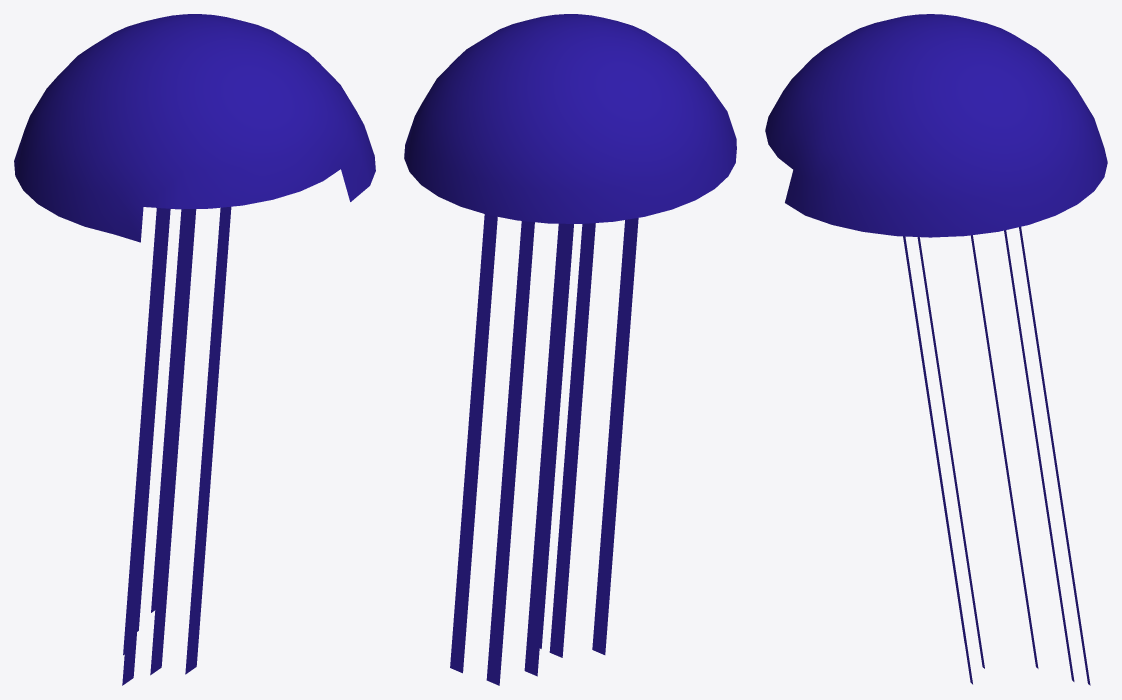
File: medusa.obj
3 renders of one model, left to right at view 1: azimuth 30°, elevation 25°; view 2: azimuth 150°, elevation 25°; view 3: azimuth 270°, elevation 25°, orthographic. The views are drawn at different scales.
Parts seen in each view (by area): view 1: Sphere; view 2: Sphere; view 3: Sphere.
Part boxes in pixels (bbox=[...]): Sphere: bbox=[14, 14, 375, 685]; Sphere: bbox=[404, 14, 736, 685]; Sphere: bbox=[765, 14, 1107, 685].
Bounding box in the file's own units: 1.96 × 3.95 × 1.9.
